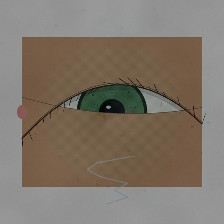foreign_body_visible: (114, 108, 138, 128)
